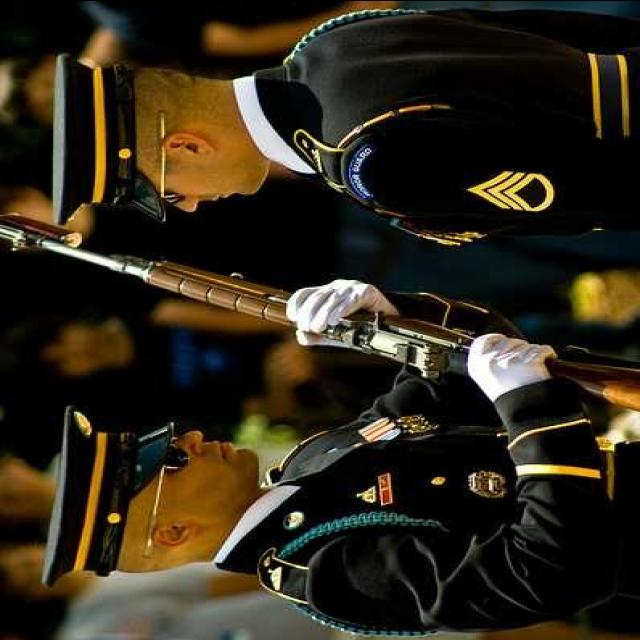heavyweapon: (1, 194, 640, 425)
